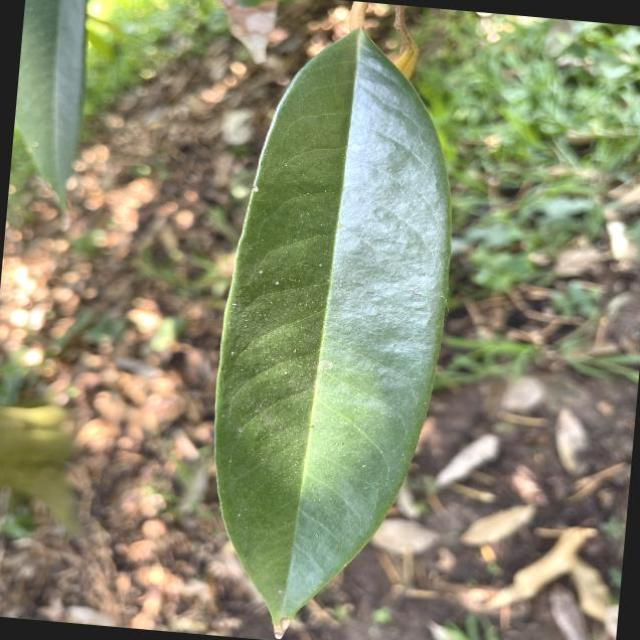No Disease: (188, 10, 477, 640)
